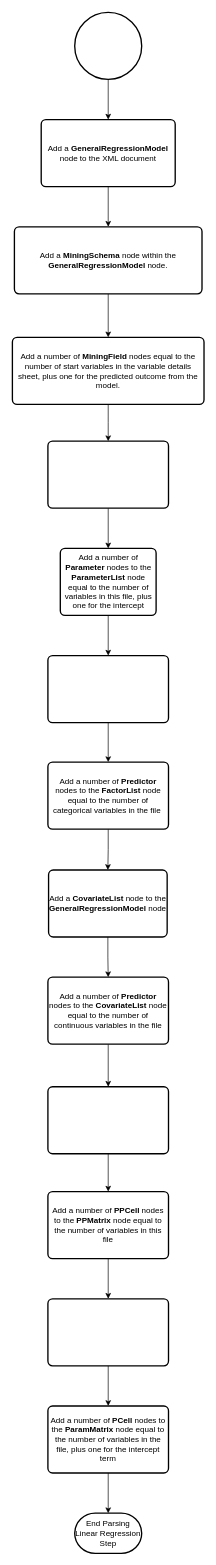
The diagram is 216 pixels wide and 1565 high, and some of its shapes have lost their labels. Here are the shapes that lost their labels. From the top down, the box of each, then its label:
(74, 11, 142, 80): Begin
(47, 440, 169, 509): Add a ParameterList node to the GeneralRegressionModel node
(47, 655, 169, 723): Add a FactorList node to the GeneralRegressionModel node
(47, 1086, 169, 1154): Add a PPMatrix node to the GeneralRegressionModel node
(47, 1298, 169, 1366): Add a ParamMatrix node to the GeneralRegressionModel node
